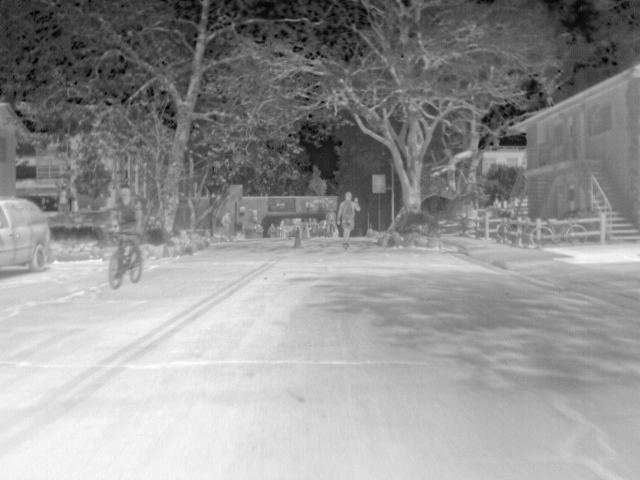car: (0, 197, 52, 271)
person: (110, 183, 144, 241), (336, 191, 362, 243), (220, 210, 233, 239), (324, 206, 336, 226), (268, 222, 278, 236)
